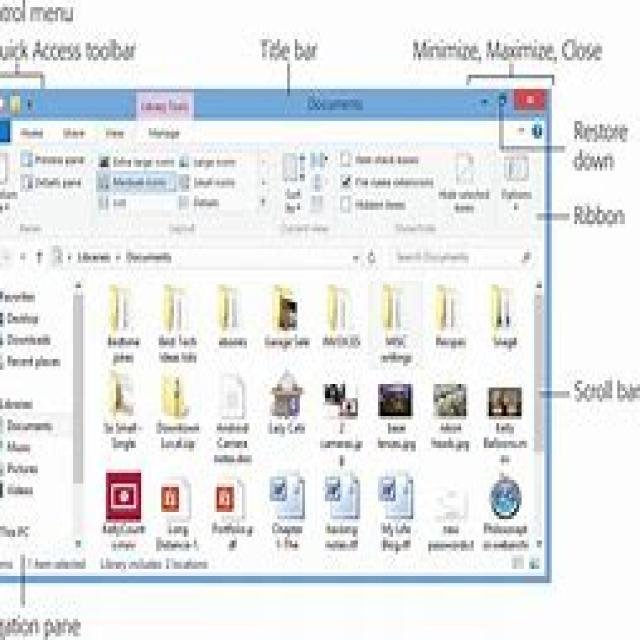button: (512, 89, 548, 111), (476, 88, 494, 114), (362, 242, 380, 267), (16, 242, 31, 269), (34, 243, 48, 270), (498, 89, 515, 111)
dropdownMenu: (53, 240, 362, 268)
icon: (265, 276, 313, 338), (319, 369, 363, 434), (268, 464, 310, 522), (157, 278, 197, 336), (262, 364, 304, 418), (159, 365, 197, 424), (321, 279, 360, 335), (105, 370, 145, 424), (322, 466, 362, 520), (212, 277, 249, 335), (104, 467, 142, 523), (214, 365, 252, 420), (376, 467, 414, 520), (372, 378, 416, 423), (430, 476, 470, 522), (432, 281, 465, 336), (103, 278, 135, 334), (488, 279, 520, 334), (380, 280, 410, 332), (214, 474, 245, 523), (434, 382, 472, 421), (490, 472, 521, 519), (160, 479, 192, 520), (488, 383, 524, 419)
input: (390, 242, 538, 269)
label: (409, 30, 608, 68), (0, 34, 144, 61), (572, 371, 640, 410), (150, 523, 208, 568), (570, 196, 626, 240), (99, 523, 148, 568), (256, 33, 320, 66), (0, 0, 83, 25), (0, 612, 86, 636), (211, 420, 254, 467), (574, 119, 633, 148), (481, 520, 531, 552), (481, 420, 529, 452), (429, 421, 472, 455), (0, 350, 62, 373), (156, 421, 200, 453), (571, 148, 621, 176), (0, 323, 55, 348), (425, 524, 474, 552), (377, 422, 418, 454), (322, 522, 363, 554), (266, 521, 308, 552), (208, 521, 256, 548), (102, 423, 145, 452), (104, 335, 142, 365), (381, 334, 414, 368), (157, 336, 198, 363), (379, 521, 414, 552), (0, 417, 57, 435), (0, 282, 40, 306), (265, 418, 308, 438), (0, 395, 41, 414), (317, 437, 364, 453), (0, 485, 39, 504), (0, 516, 30, 540), (1, 310, 44, 326), (262, 337, 312, 350), (0, 439, 40, 455), (320, 335, 364, 349), (490, 334, 520, 353), (2, 460, 42, 474), (434, 336, 468, 352), (217, 338, 248, 348)
menu: (0, 117, 542, 231)
slider: (70, 277, 88, 553), (534, 272, 546, 554)
